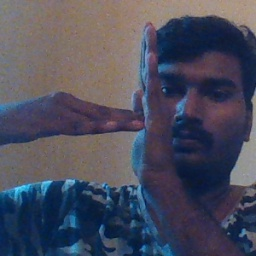Z: (75, 21, 183, 186)
